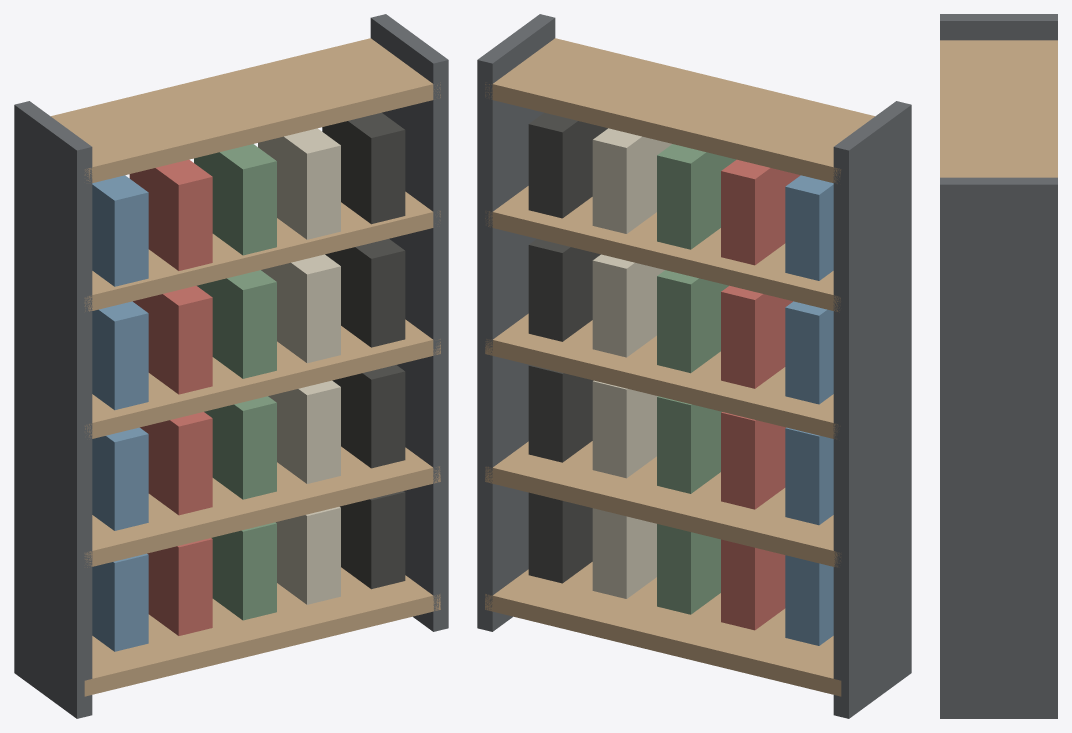
The model's file is binder_shelf_03.glb.
3 renders of one model, left to right at view 1: azimuth 30°, elevation 25°; view 2: azimuth 150°, elevation 25°; view 3: azimuth 270°, elevation 25°, orthographic. The views are drawn at different scales.
Visible parts, largest first — view 1: side-0.525, shelf4, side0.525, shelf0, shelf1, shelf2, shelf3, binder3_4, binder3_1, binder3_2, binder3_3, binder2_4 (+15 smaller); view 2: side-0.525, shelf4, side0.525, shelf0, shelf1, shelf2, shelf3, binder3_3, binder3_4, binder3_1, binder3_2, binder2_3 (+15 smaller); view 3: side0.525, shelf4, side-0.525.
Part boxes in pixels (bbox=[...]): side-0.525: bbox=[14, 101, 92, 718]; shelf4: bbox=[51, 38, 440, 182]; side0.525: bbox=[370, 14, 448, 631]; shelf0: bbox=[84, 567, 440, 696]; shelf1: bbox=[84, 446, 440, 567]; shelf2: bbox=[85, 319, 440, 438]; shelf3: bbox=[84, 191, 440, 311]; binder3_4: bbox=[322, 112, 405, 224]; binder3_1: bbox=[129, 159, 212, 270]; binder3_2: bbox=[194, 144, 276, 255]; binder3_3: bbox=[258, 128, 340, 239]; binder2_4: bbox=[325, 239, 405, 347]; side-0.525: bbox=[833, 101, 911, 718]; shelf4: bbox=[485, 38, 874, 183]; side0.525: bbox=[477, 14, 555, 631]; shelf0: bbox=[485, 562, 841, 696]; shelf1: bbox=[485, 441, 841, 567]; shelf2: bbox=[485, 313, 840, 439]; shelf3: bbox=[485, 186, 840, 312]; binder3_3: bbox=[592, 128, 671, 233]; binder3_4: bbox=[528, 112, 607, 218]; binder3_1: bbox=[721, 159, 800, 265]; binder3_2: bbox=[657, 144, 736, 249]; binder2_3: bbox=[592, 254, 664, 357]; side0.525: bbox=[940, 177, 1057, 718]; shelf4: bbox=[940, 40, 1057, 177]; side-0.525: bbox=[940, 14, 1057, 40].
Bounding box in the file's own units: 1.1 × 1.6 × 0.32.
